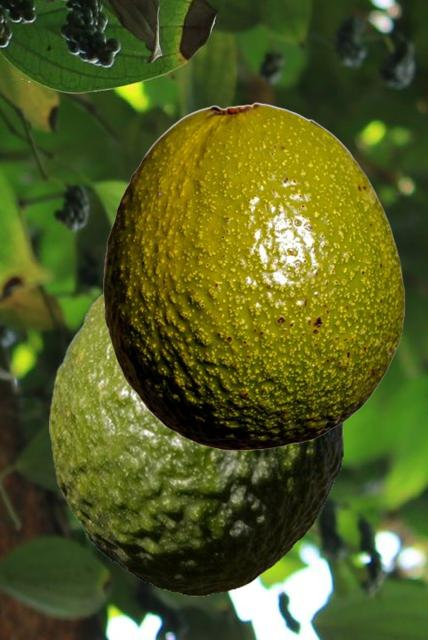avocado: (103, 102, 404, 449), (49, 289, 342, 595)
